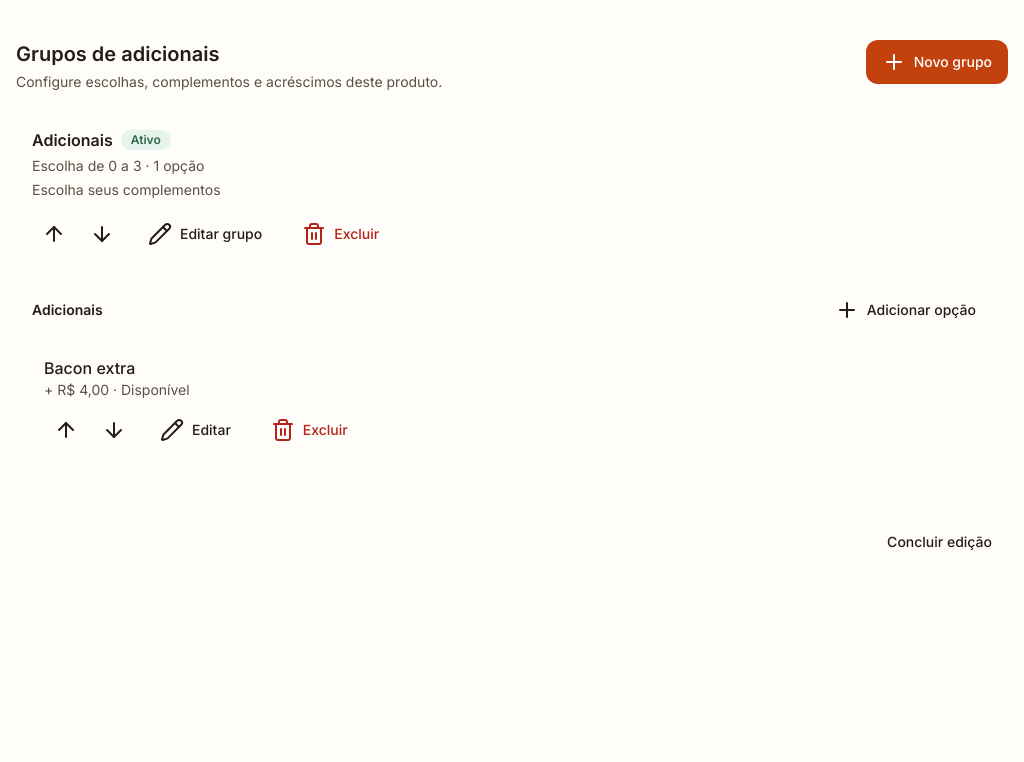
Test: componentes do painel do tenant › apresenta grupos e opções existentes do produto
Check: the heading "Grupos de adicionais" is shown, box left=16, top=42, right=219, bottom=66
Check: the text "Bacon extra" is shown, box left=44, top=358, right=135, bottom=378
Click the button "Novo grupo": (937, 62) left=866, top=40, right=1008, bottom=84
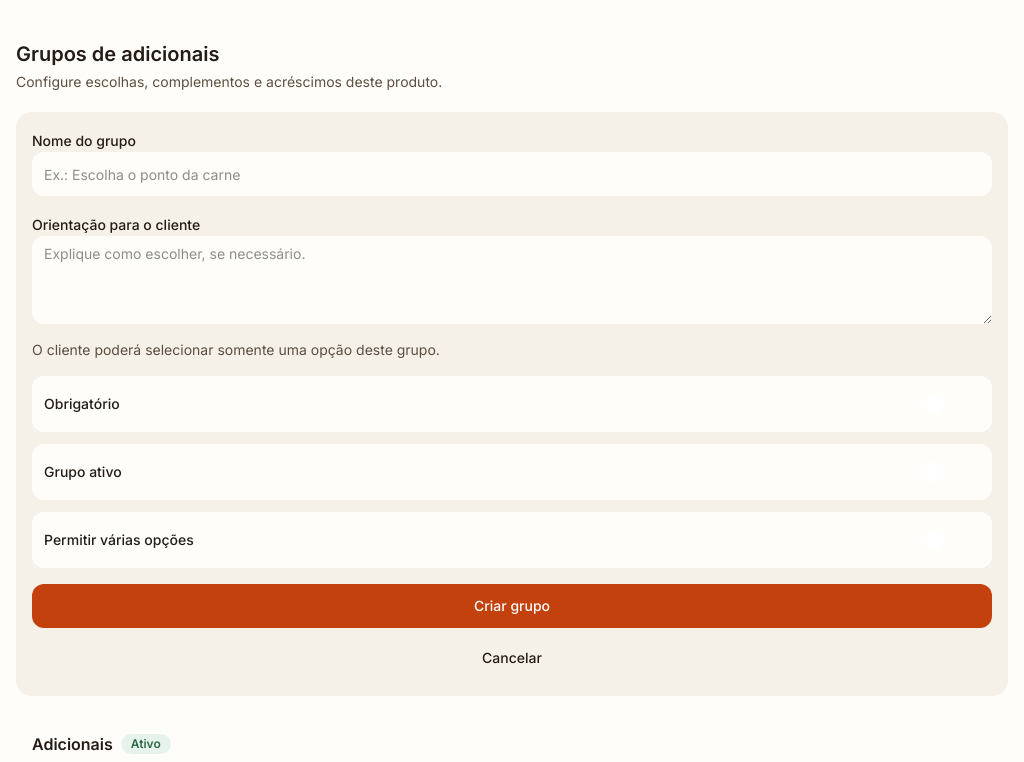
Check: the button "Criar grupo" is shown, box left=32, top=584, right=992, bottom=628
